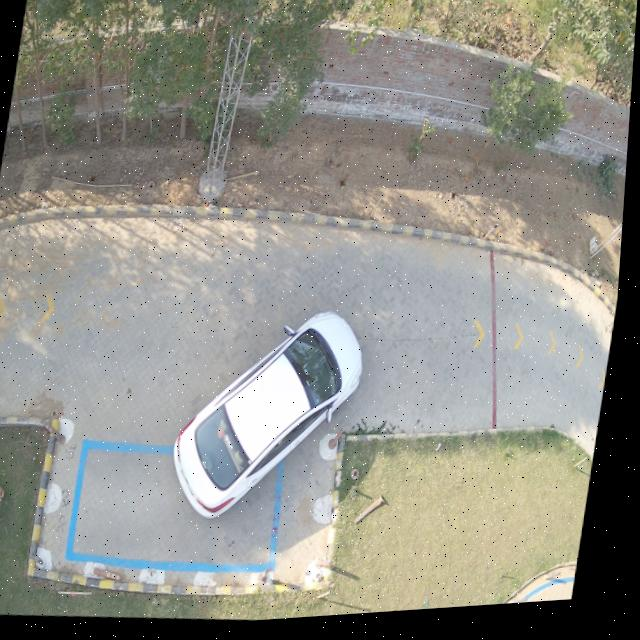car: (177, 317, 367, 523)
